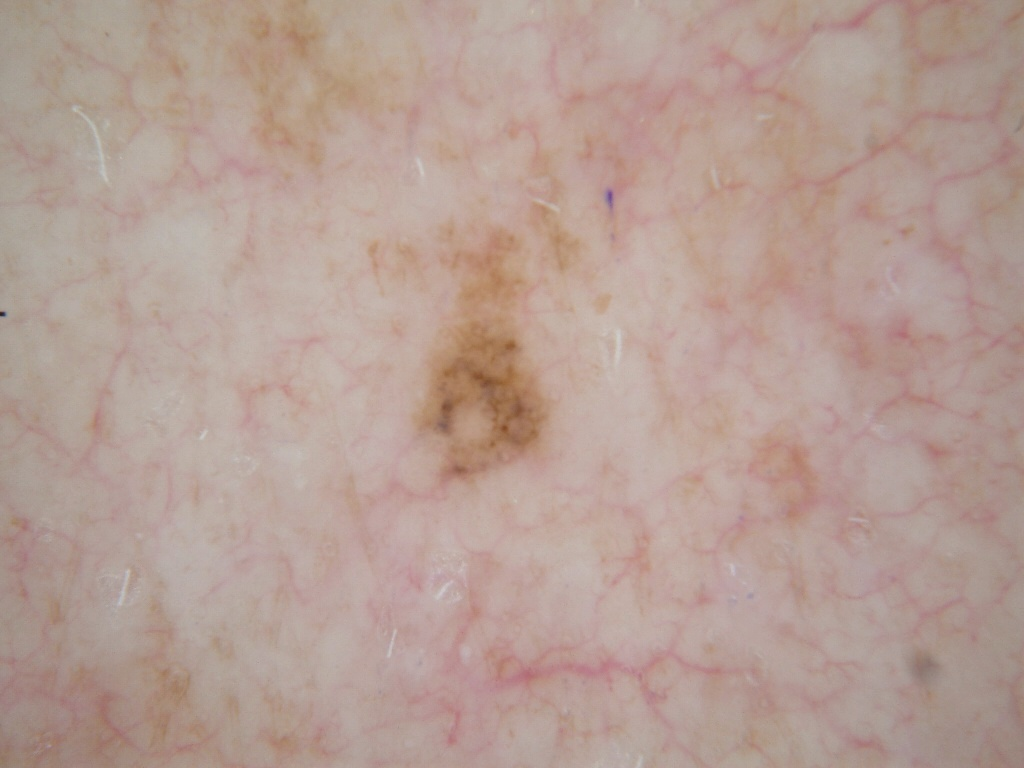Detected Lesion: (396, 224, 551, 490)
